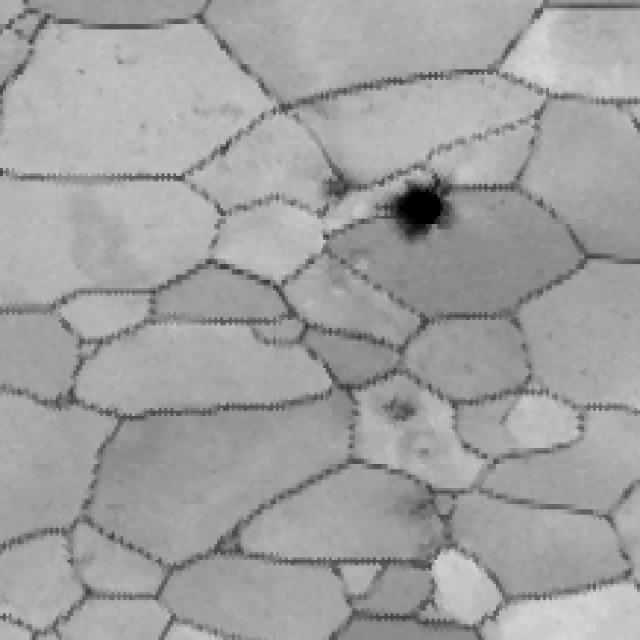good_void: (374, 167, 458, 249), (311, 171, 358, 203), (378, 396, 418, 430), (399, 492, 434, 523), (111, 50, 139, 67), (413, 443, 436, 460)
